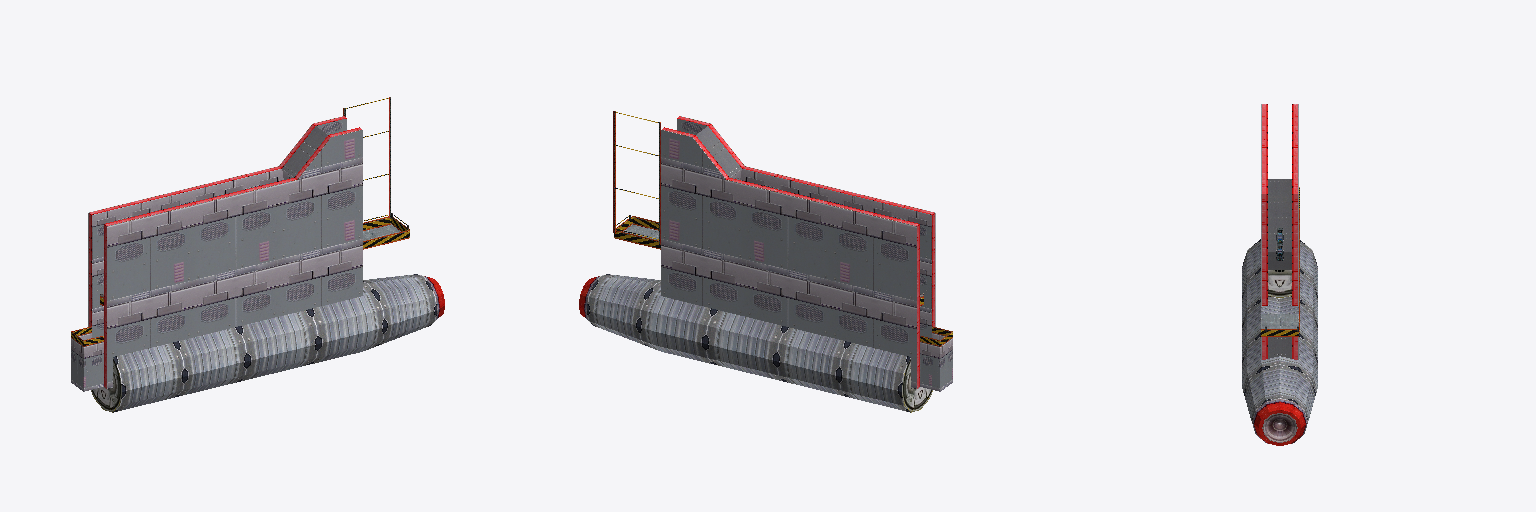
The picture shows the model from 3 angles: view 1: azimuth 30°, elevation 25°; view 2: azimuth 150°, elevation 25°; view 3: azimuth 270°, elevation 25°; orthographic projection.
Visible parts, largest first — view 1: s13_on_06_6, s13_on_06_1, s13_on_06_11, s13_on_06_4, s13_on_06_7, s13_on_06_3; view 2: s13_on_06_6, s13_on_06_1, s13_on_06_11, s13_on_06_4, s13_on_06_7, s13_on_06_3; view 3: s13_on_06_1, s13_on_06_11, s13_on_06_7, s13_on_06_0, s13_on_06_2, s13_on_06_3, s13_on_06_10.
Boxes of the visible parts, box(x1,y1,x2,y2) form: s13_on_06_6: box(71, 119, 362, 391); s13_on_06_1: box(113, 274, 436, 412); s13_on_06_11: box(88, 116, 361, 388); s13_on_06_4: box(71, 98, 409, 346); s13_on_06_7: box(282, 126, 327, 176); s13_on_06_3: box(91, 358, 121, 412); s13_on_06_6: box(661, 119, 952, 391); s13_on_06_1: box(587, 274, 910, 412); s13_on_06_11: box(662, 116, 935, 388); s13_on_06_4: box(614, 111, 952, 346); s13_on_06_7: box(696, 126, 741, 176); s13_on_06_3: box(902, 358, 932, 412); s13_on_06_1: box(1242, 239, 1317, 420); s13_on_06_11: box(1261, 104, 1298, 359); s13_on_06_7: box(1268, 179, 1291, 358); s13_on_06_0: box(1252, 399, 1307, 445); s13_on_06_2: box(1263, 414, 1296, 441); s13_on_06_3: box(1268, 270, 1291, 297); s13_on_06_10: box(1261, 314, 1298, 328).
Bounding box in the file's own units: 872 × 545 × 160.
Materials: 13 (13 with a texture image).